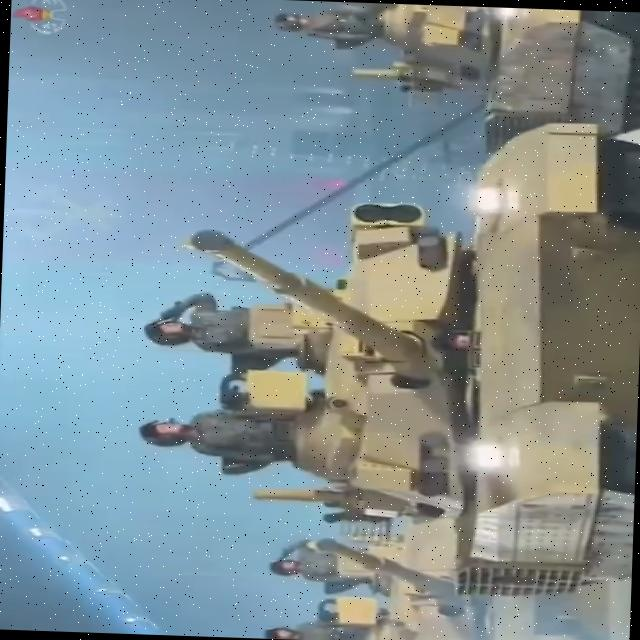north tank: (170, 107, 640, 603), (301, 498, 632, 640), (354, 3, 640, 162)
